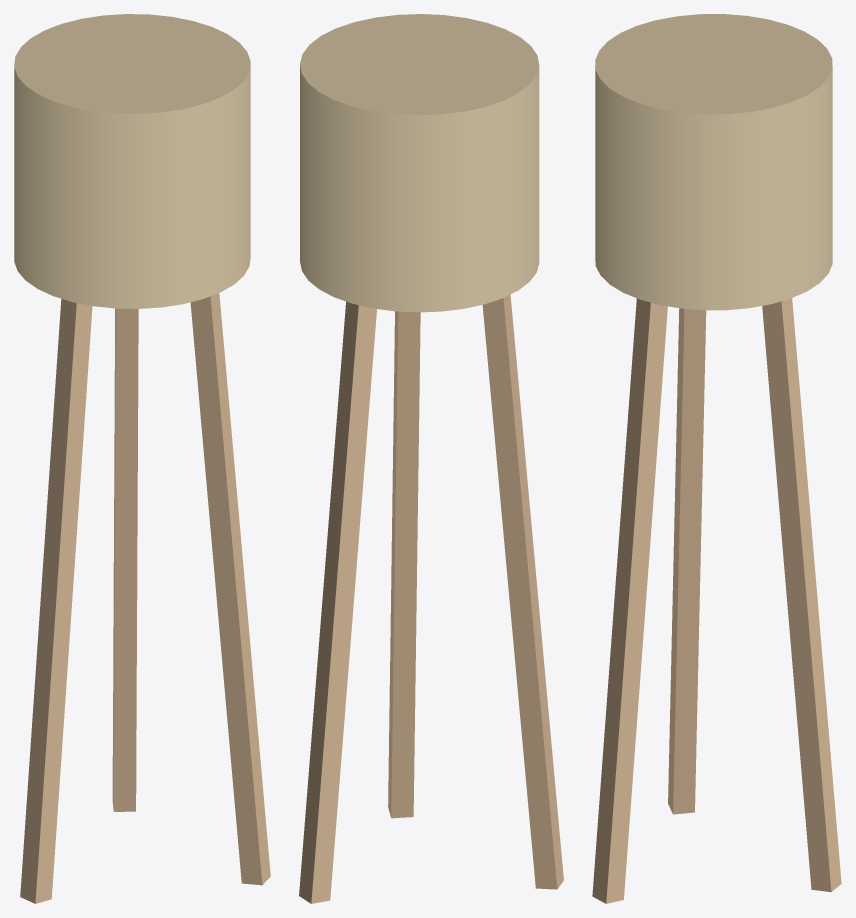
Rendered from light.glb.
3 renders of one model, left to right at view 1: azimuth 30°, elevation 25°; view 2: azimuth 150°, elevation 25°; view 3: azimuth 270°, elevation 25°, orthographic.
Visible parts, largest first — view 1: Cylinder.071, Cube.081, Cube.082, Cube.084; view 2: Cylinder.071, Cube.084, Cube.081, Cube.082; view 3: Cylinder.071, Cube.082, Cube.084, Cube.081.
Boxes of the visible parts, box(x1,y1,x2,y2) form: Cylinder.071: box(14, 14, 250, 308); Cube.081: box(20, 299, 92, 903); Cube.082: box(190, 293, 270, 885); Cube.084: box(112, 308, 138, 811); Cylinder.071: box(300, 14, 539, 312); Cube.084: box(299, 301, 376, 903); Cube.081: box(482, 294, 563, 889); Cube.082: box(388, 311, 420, 818); Cylinder.071: box(595, 14, 832, 310); Cube.082: box(592, 298, 667, 903); Cube.084: box(762, 298, 841, 892); Cube.081: box(668, 308, 706, 814).
Bounding box in the file's own units: 0.036 × 0.1209 × 0.0341.
